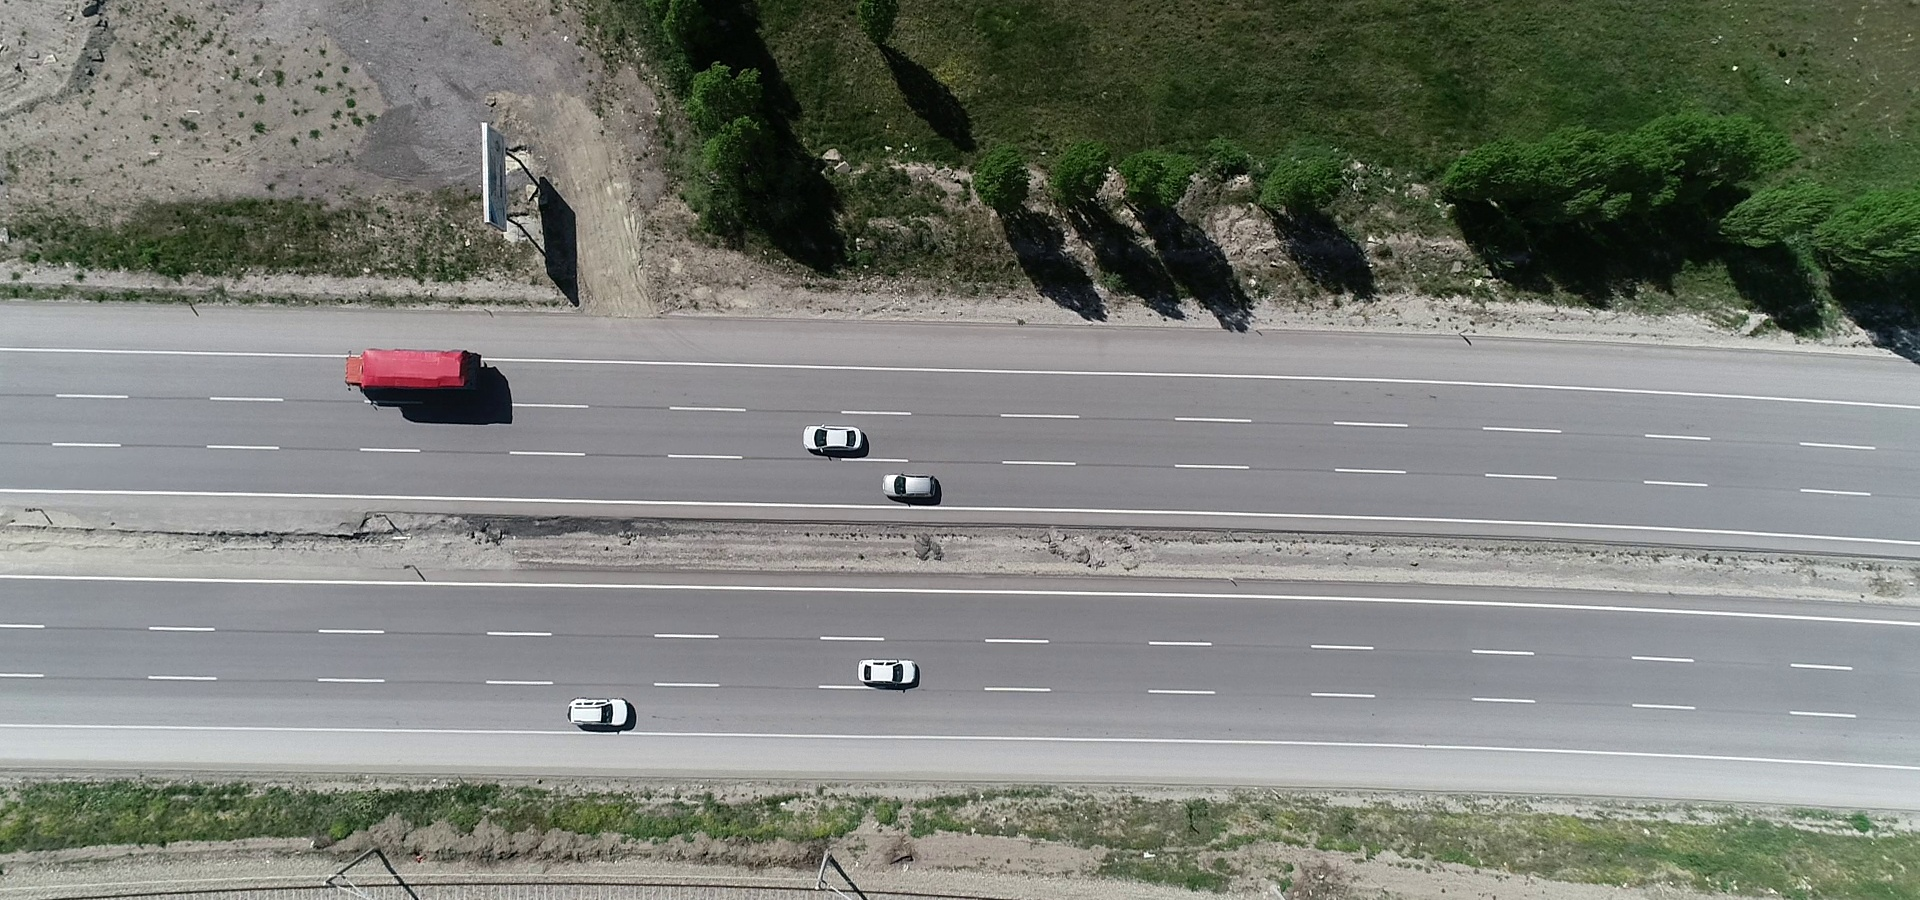arac: (337, 349, 478, 404), (560, 692, 644, 735), (880, 463, 950, 503), (853, 658, 936, 691), (801, 424, 864, 456)
